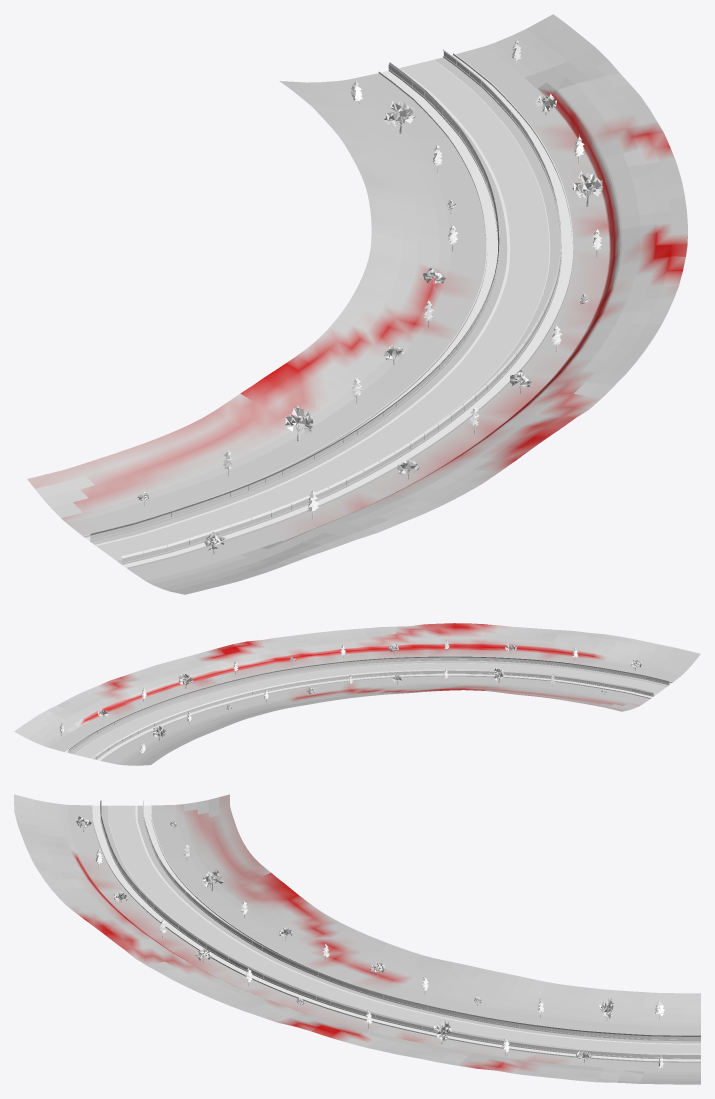
3 views of the same model, one above another, from view 1: azimuth 30°, elevation 25°; view 2: azimuth 150°, elevation 25°; view 3: azimuth 270°, elevation 25° (orthographic). The views are drawn at different scales.
Visible parts, largest first — view 1: Grass, Road, Track, Wirefence, Trees; view 2: Grass, Road, Wirefence, Track, Trees; view 3: Grass, Road, Track, Wirefence, Trees.
Boxes of the visible parts, bbox=[...] form: Grass: bbox=[27, 14, 687, 594]; Road: bbox=[96, 60, 549, 560]; Track: bbox=[84, 50, 573, 568]; Wirefence: bbox=[90, 49, 561, 562]; Trees: bbox=[137, 40, 602, 554]; Grass: bbox=[14, 623, 700, 765]; Road: bbox=[74, 663, 665, 758]; Wirefence: bbox=[69, 656, 669, 758]; Track: bbox=[63, 657, 672, 760]; Trees: bbox=[60, 639, 642, 754]; Grass: bbox=[14, 794, 700, 1084]; Road: bbox=[108, 805, 700, 1053]; Track: bbox=[92, 804, 700, 1062]; Wirefence: bbox=[100, 800, 700, 1058]; Trees: bbox=[76, 816, 664, 1072].
Size of what is drawn, in the model's own units: 44500 by 1702 by 44500.
